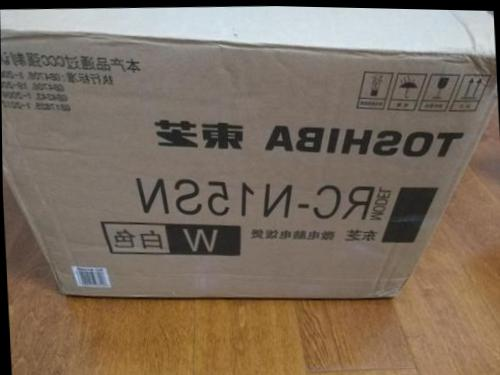cardboard: (0, 0, 500, 314)
